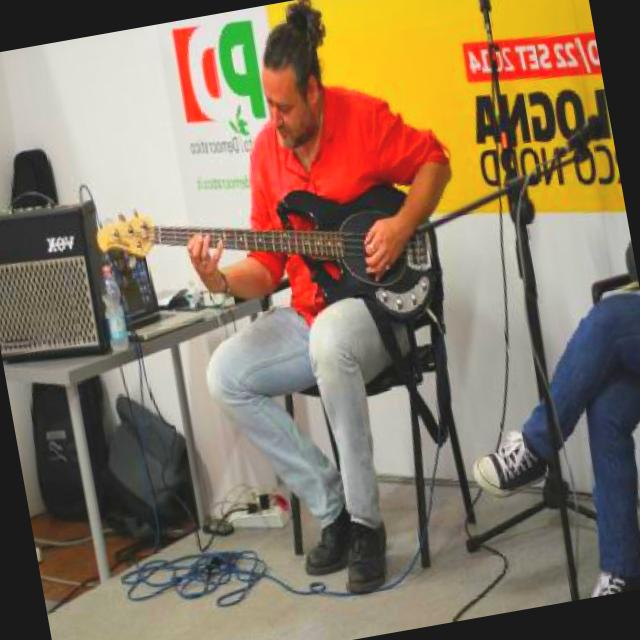Person: (123, 35, 485, 573), (435, 237, 640, 612)
